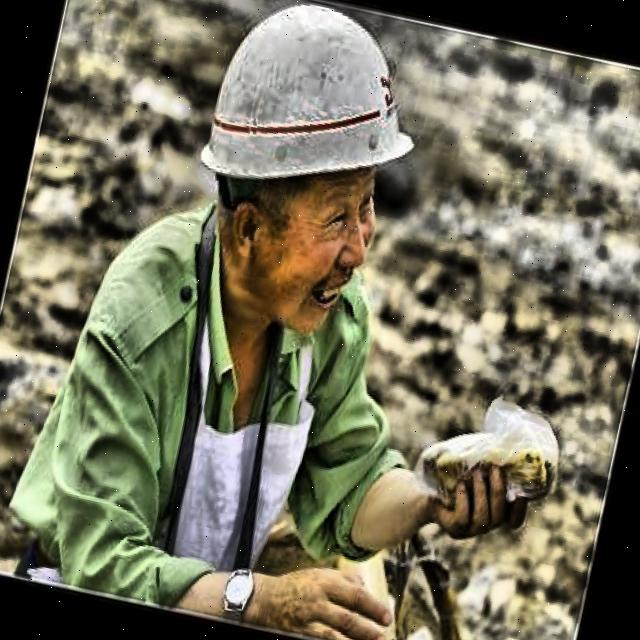helmet: (149, 0, 449, 360)
